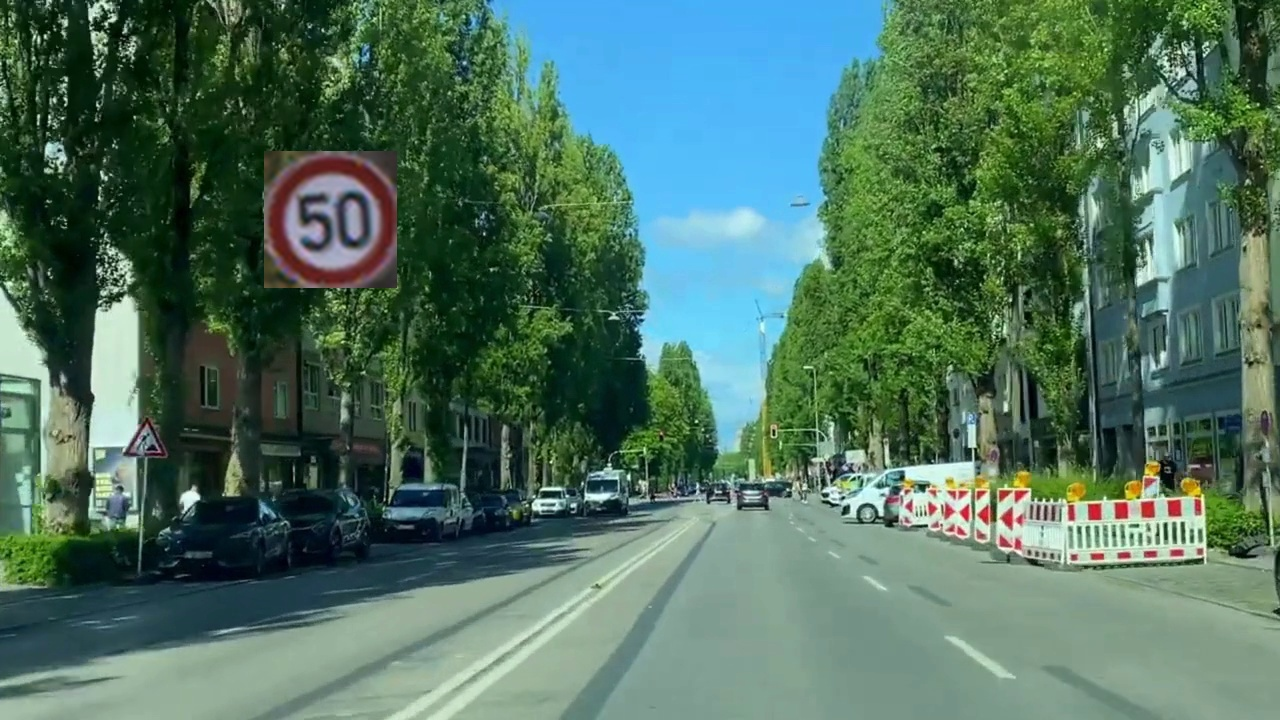Speed 50: (264, 151, 397, 288)
